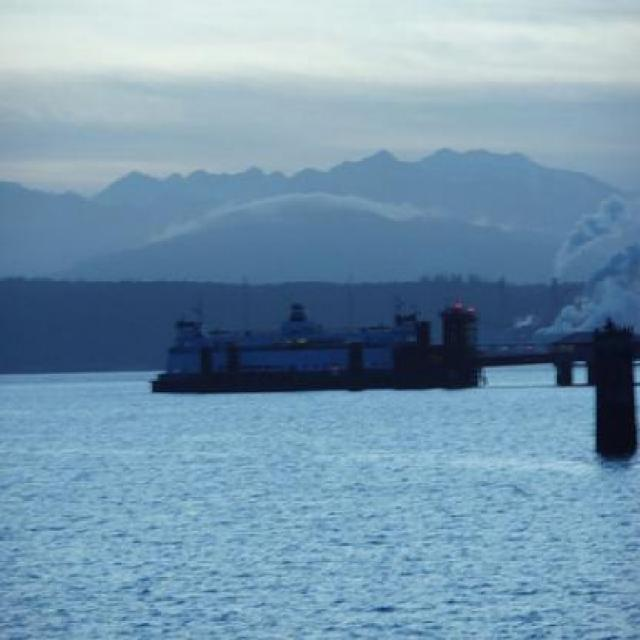ship: (126, 273, 512, 430)
